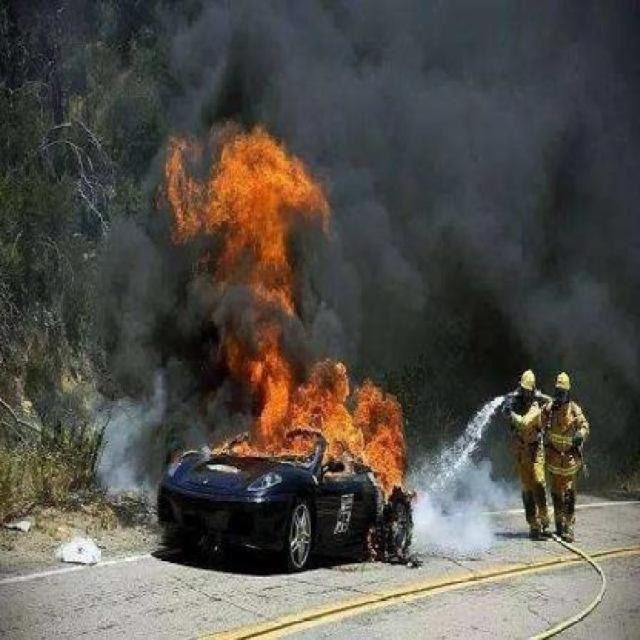Fire: (162, 126, 410, 502)
Smoke: (356, 139, 638, 382), (176, 2, 638, 130)
